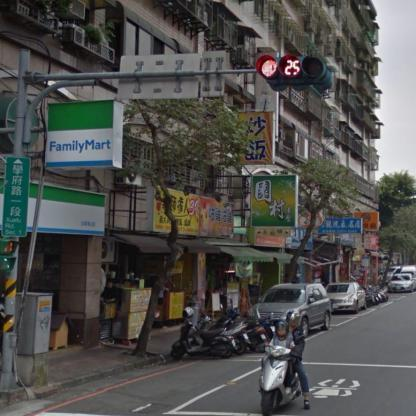Red Light: (254, 52, 328, 85)
